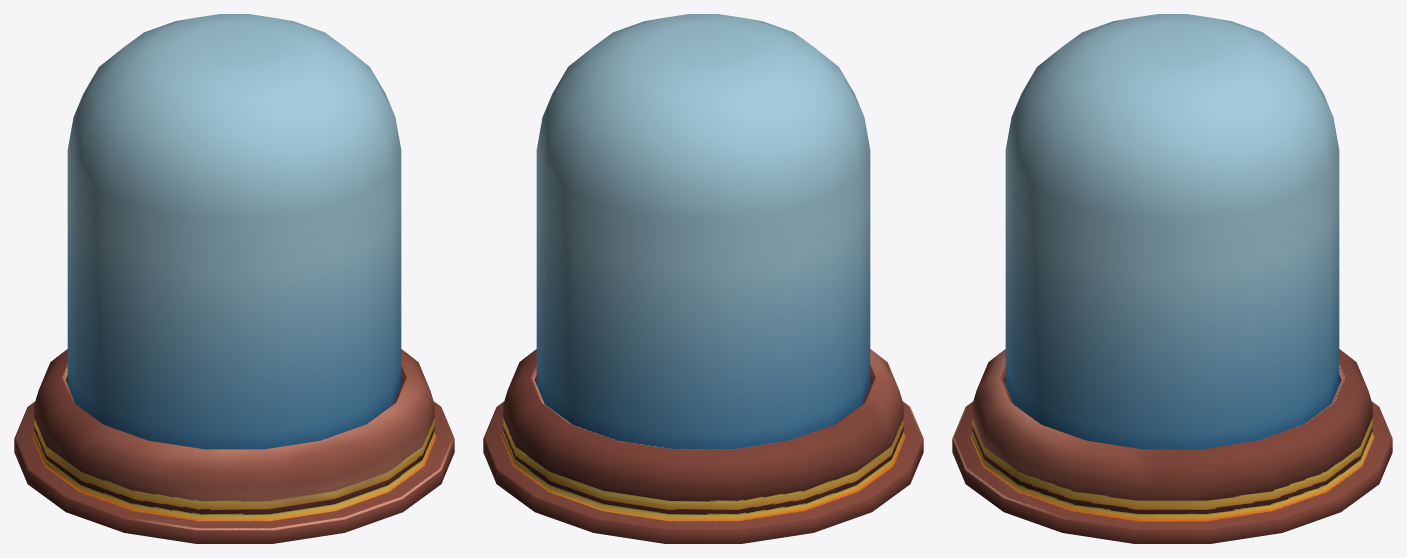
File: Jar01.fbx
3 views of the same model, side by side, from view 1: azimuth 30°, elevation 25°; view 2: azimuth 150°, elevation 25°; view 3: azimuth 270°, elevation 25° (orthographic).
Visible parts, largest first — view 1: Jar01; view 2: Jar01; view 3: Jar01.
Boxes of the visible parts, bbox=[...] form: Jar01: bbox=[14, 14, 454, 543]; Jar01: bbox=[483, 14, 923, 543]; Jar01: bbox=[952, 14, 1392, 543].
Bounding box in the file's own units: 260 × 270 × 264.
